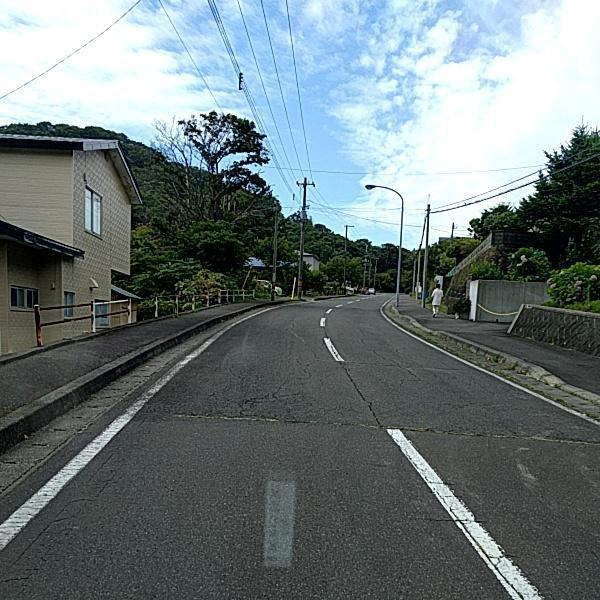D10: (418, 513, 458, 525)
D20: (211, 364, 316, 420)
D44: (0, 347, 192, 586), (387, 424, 545, 599)
